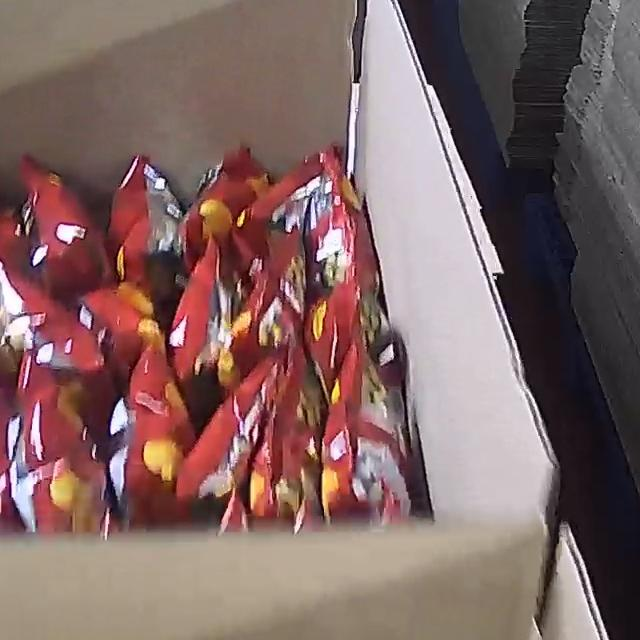masala: (0, 138, 417, 540)
